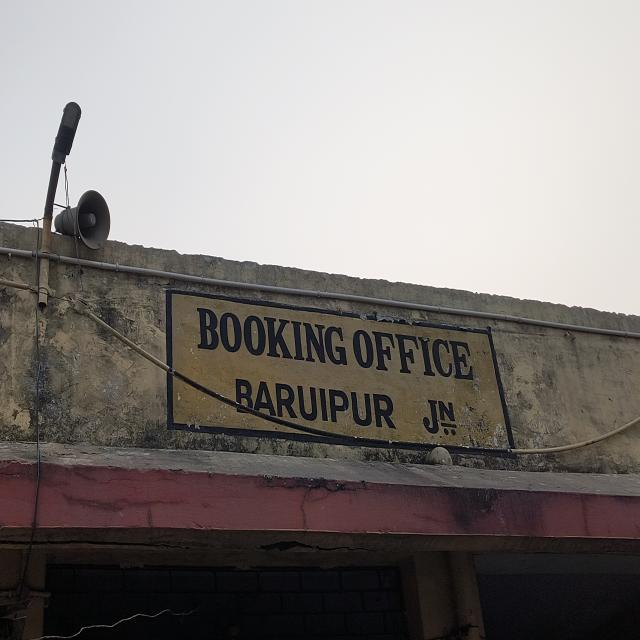stain_mould: (23, 325, 629, 592), (0, 227, 166, 480)
